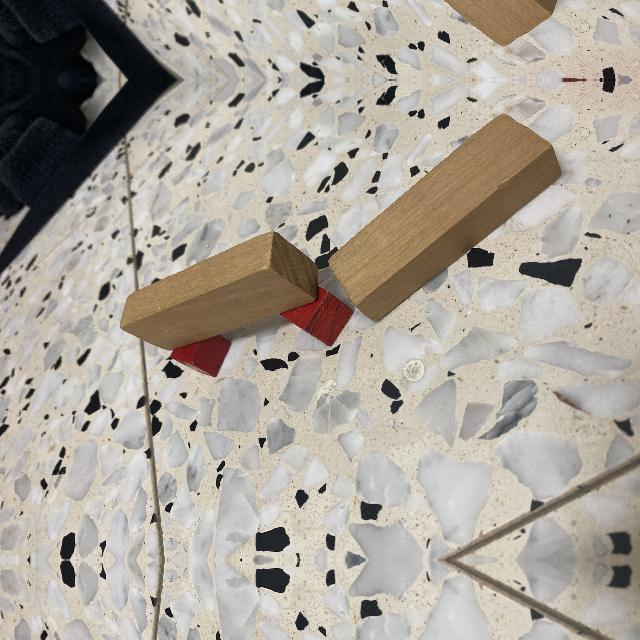jenga: (327, 115, 562, 324), (119, 231, 319, 351)
red cube: (280, 291, 351, 345), (169, 335, 231, 377)
